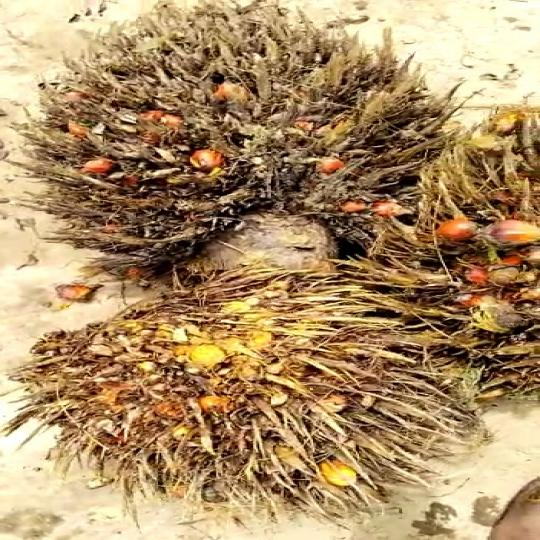terlalu masak: (13, 5, 456, 289), (15, 273, 514, 522)
